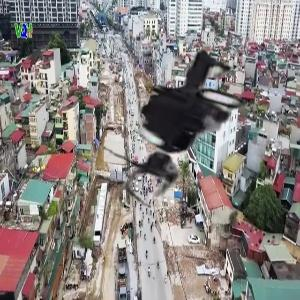drone: (89, 17, 300, 229)
